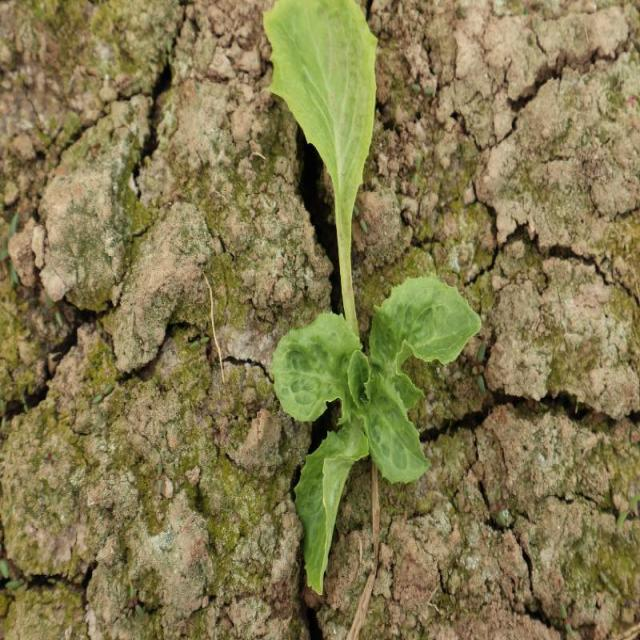crop: (262, 0, 482, 596)
